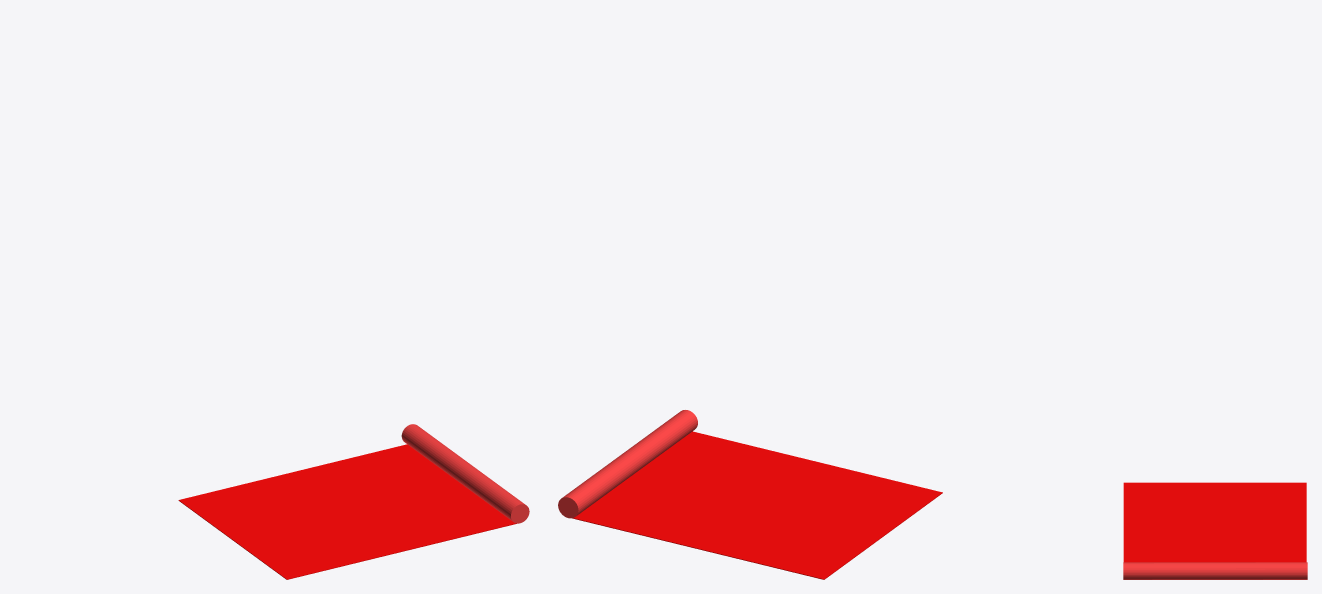
Rendered from karpet.fbx.
3 views of the same model, side by side, from view 1: azimuth 30°, elevation 25°; view 2: azimuth 150°, elevation 25°; view 3: azimuth 270°, elevation 25° (orthographic). The views are drawn at different scales.
Visible parts, largest first — view 1: panggung, Cylinder; view 2: panggung, Cylinder; view 3: panggung, Cylinder.
Part boxes in pixels (x1,y1,x2,y2): panggung: (178,444,516,579); Cylinder: (401,424,529,523); panggung: (572,431,942,579); Cylinder: (558,410,697,518); panggung: (1123,482,1306,562); Cylinder: (1123,562,1307,579).
Bounding box in the file's own units: 926 × 1053 × 403.
